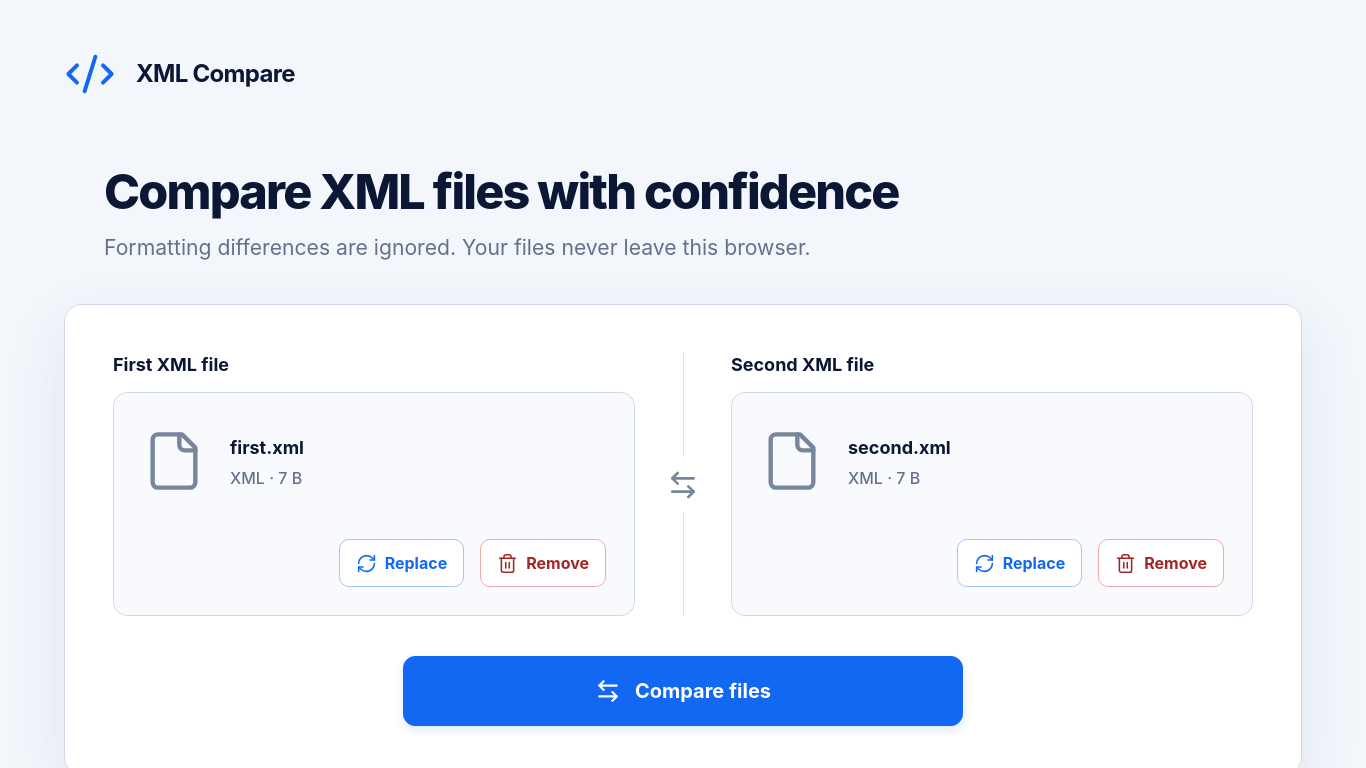
it: XML comparison workflow › reads files concurrently, disables duplicate comparisons, and discards stale work
Earlier steps of the test are not shown.
Later steps or results of the test are not shown.
Click the button "Compare files": [683, 691] box x1=403 y1=656 x2=963 y2=726
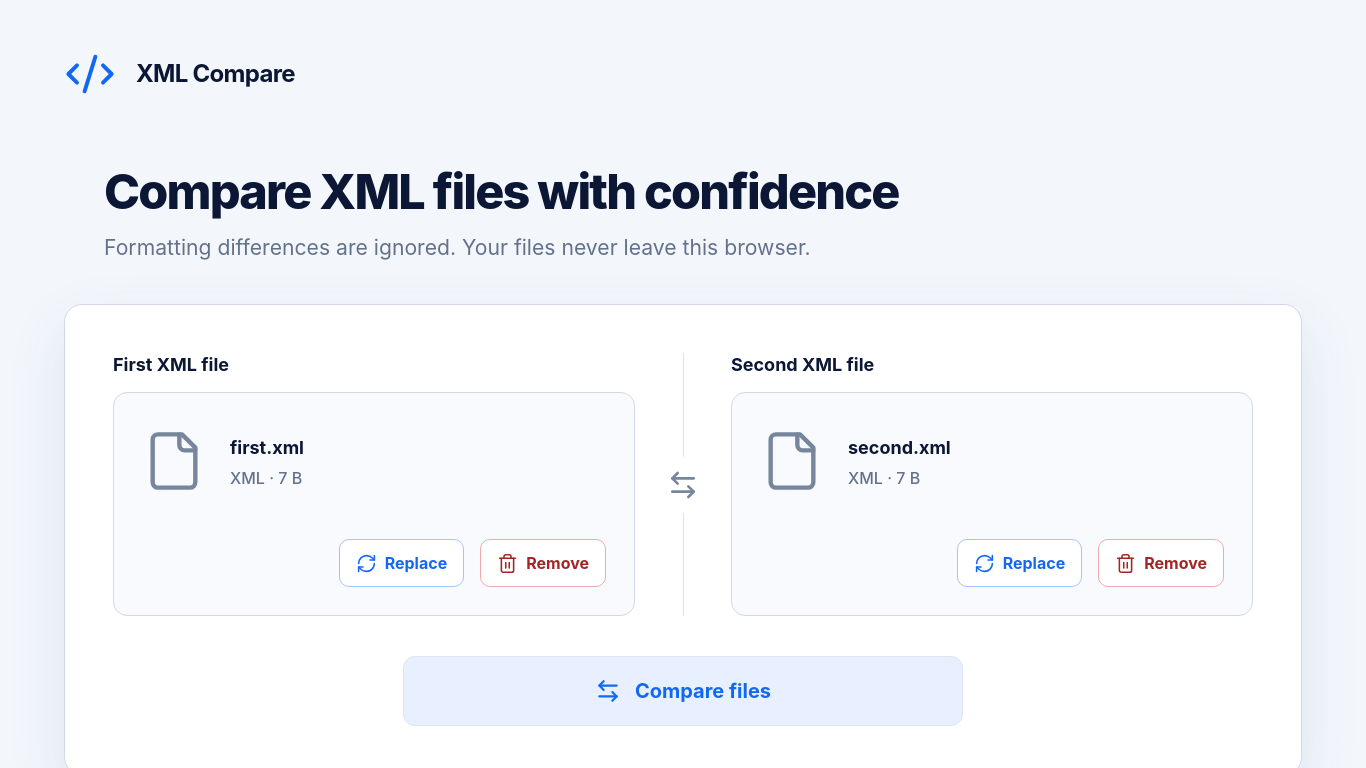
Now the button "Compare files" is disabled, box x1=403 y1=656 x2=963 y2=726
